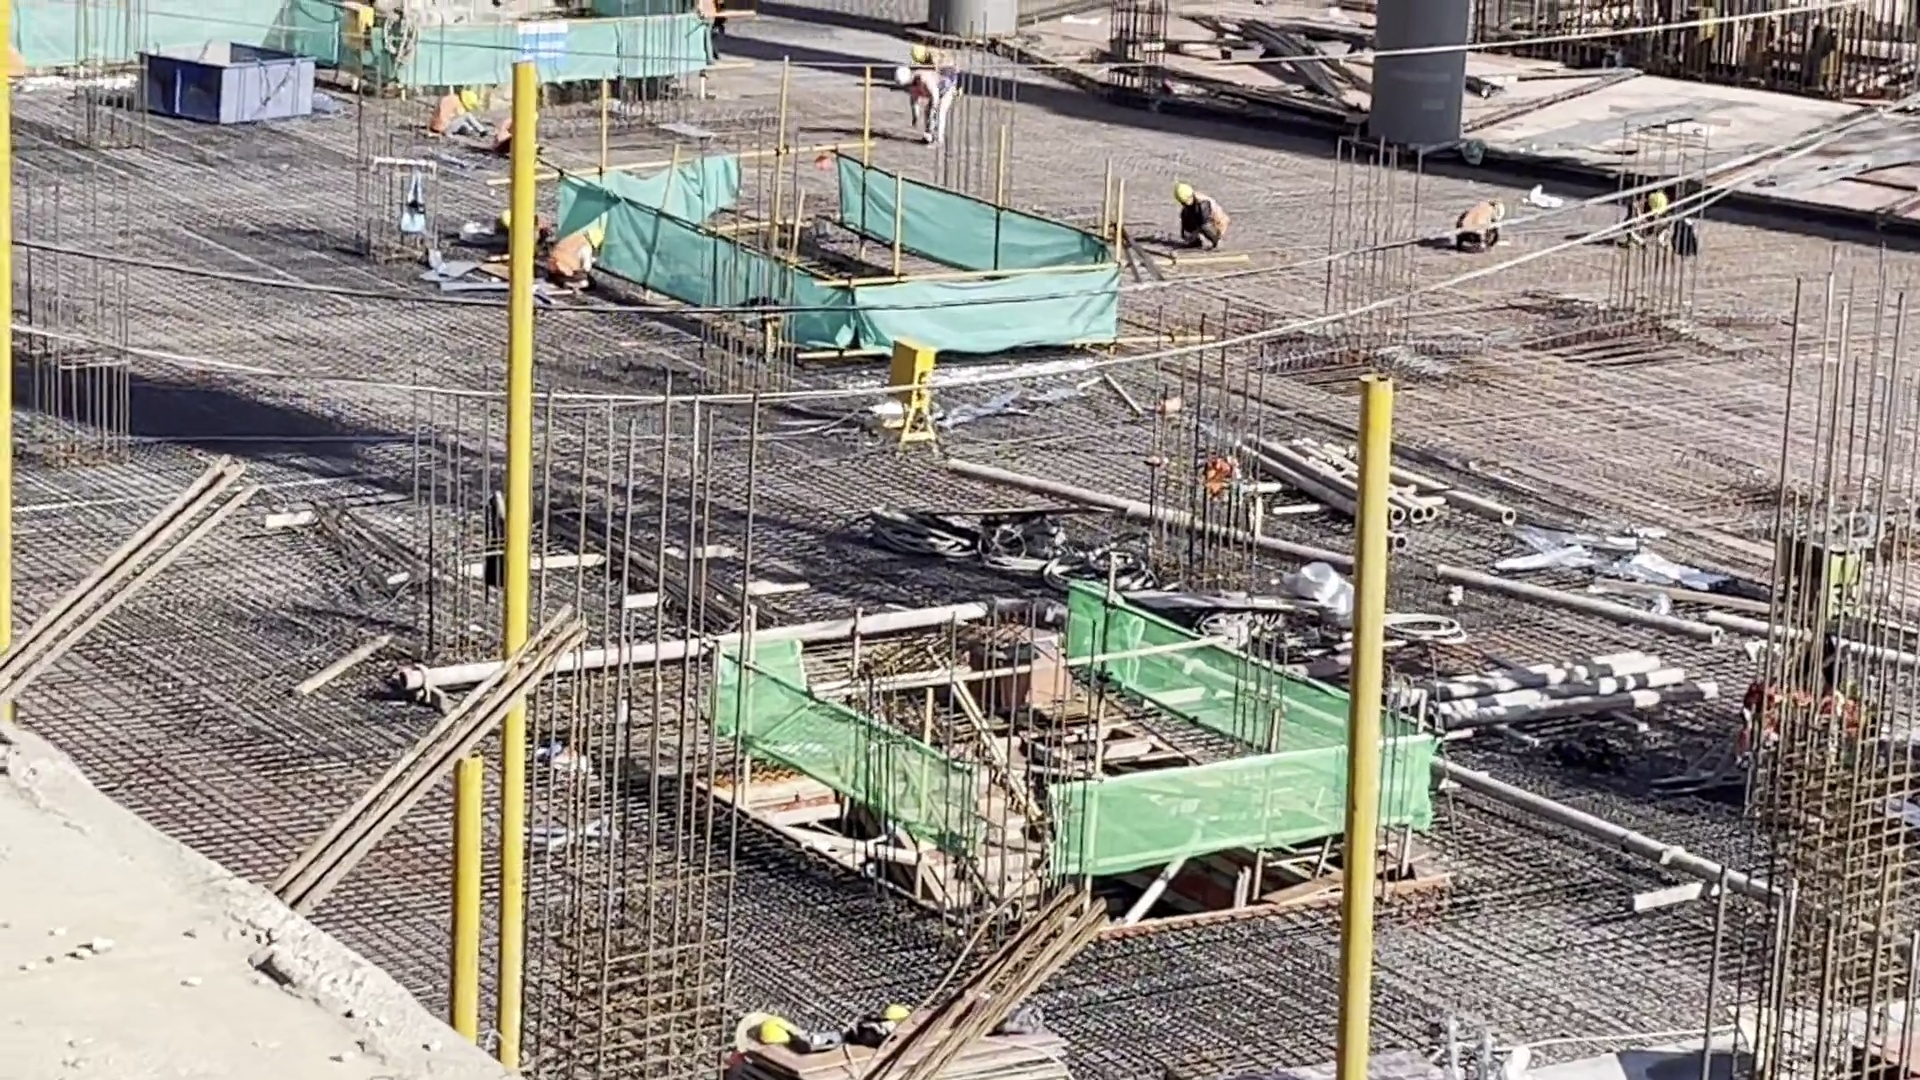board: (738, 1037, 1055, 1080)
ebox: (879, 341, 939, 438), (342, 1, 373, 54)
helmet: (459, 88, 478, 108), (1174, 182, 1193, 199), (894, 65, 909, 87), (1650, 195, 1668, 212), (589, 230, 602, 250), (911, 47, 927, 63)
hopper: (140, 37, 312, 127)
person: (900, 69, 958, 143), (547, 230, 602, 296), (1174, 184, 1227, 251), (1463, 196, 1506, 253), (436, 87, 482, 137), (911, 43, 951, 73)
slogan: (513, 24, 571, 66)
vest: (554, 235, 594, 276), (1466, 200, 1496, 241), (438, 91, 462, 127)
